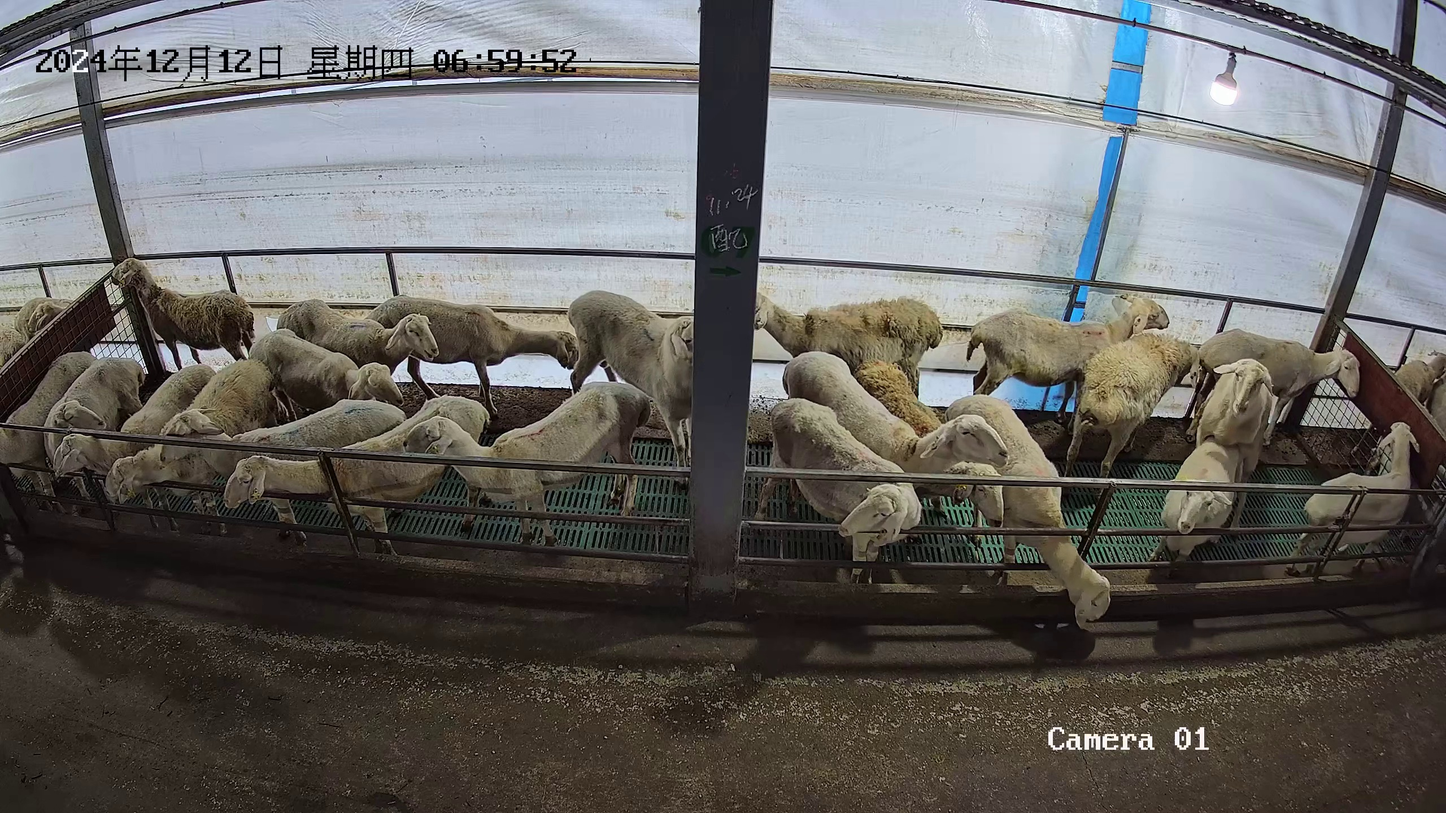Smounting: (1142, 356, 1281, 563)
mounted: (1147, 436, 1252, 560)
